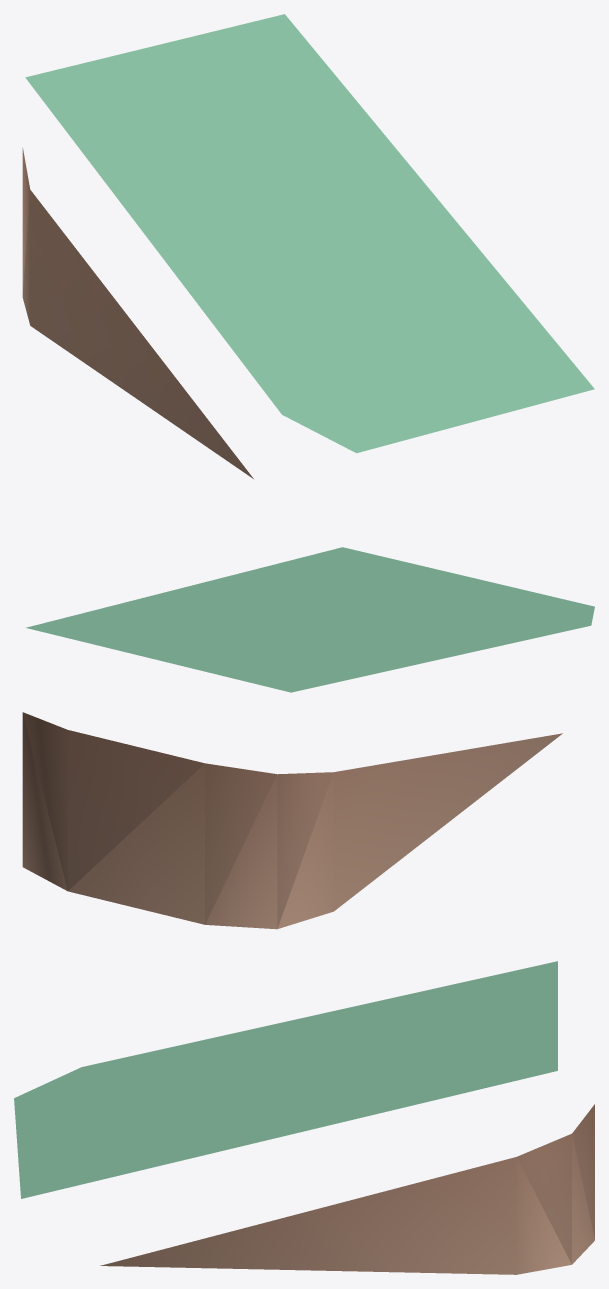
Rendered from ramp.glb.
The picture shows the model from 3 angles, top to bottom: view 1: azimuth 30°, elevation 25°; view 2: azimuth 150°, elevation 25°; view 3: azimuth 270°, elevation 25°; orthographic projection. The views are drawn at different scales.
Parts seen in each view (by area): view 1: ramp; view 2: ramp; view 3: ramp.
Part boxes in pixels (<box>): ramp: <box>22,14,594,478</box>; ramp: <box>22,547,594,929</box>; ramp: <box>14,961,594,1274</box>.
Bounding box in the file's own units: 1 × 0.7308 × 1.96.
